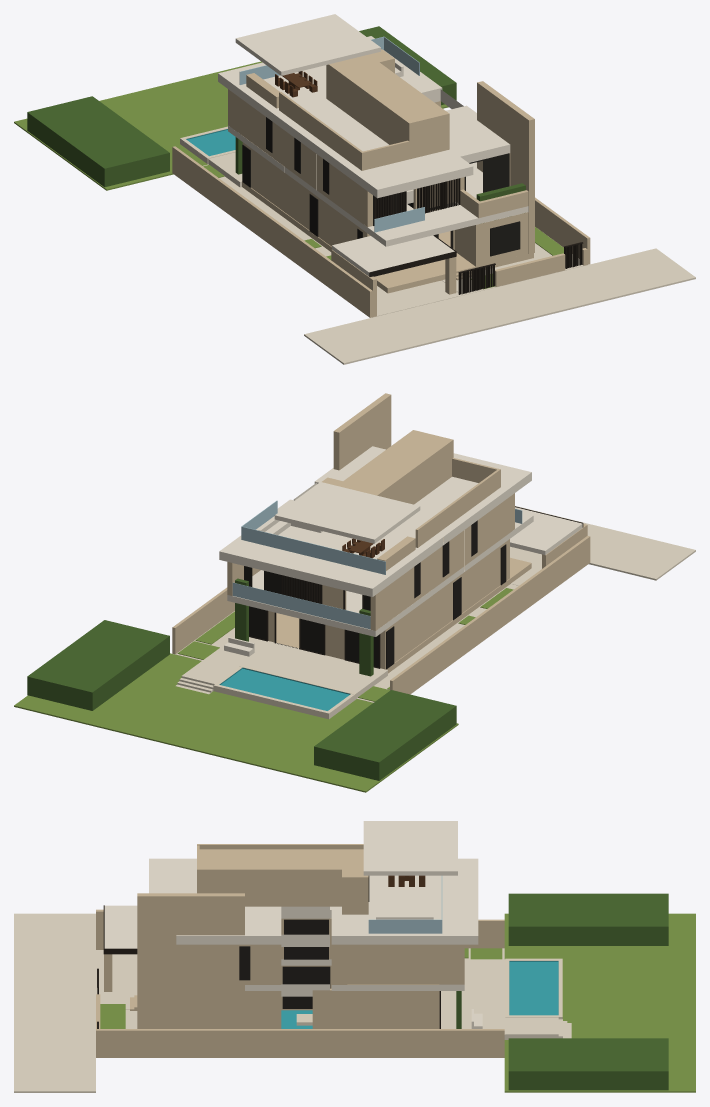
Rendered from villa_v10.glb.
3 views of the same model, one above another, from view 1: azimuth 30°, elevation 25°; view 2: azimuth 150°, elevation 25°; view 3: azimuth 270°, elevation 25° (orthographic). The views are drawn at different scales.
Visible parts, largest first — view 1: GROUND_street_verge, HEDGE_context_rear_left, RF_core, CONTEXT_lawn_beyond_plot (NOT PLOT), WALL_side_left, RF_canopy, ROOF_f, STONE_FIN (render-sourced, not on plan), ROOF_r, CARPORT_canopy (render-sourced, not on plan), GF_plinth, SLAB_FF_front_ext (+26 smaller); view 2: CONTEXT_lawn_beyond_plot (NOT PLOT), HEDGE_context_rear_right, HEDGE_context_rear_left, ROOF_r, WALL_side_left, RF_canopy, RF_core, DECK_rear_strip, GROUND_street_verge, STONE_FIN (render-sourced, not on plan), ROOF_f, POOL_water (v3 9.50 x 3.60) (+26 smaller); view 3: CONTEXT_lawn_beyond_plot (NOT PLOT), GROUND_street_verge, WALL_side_right, STONE_FIN (render-sourced, not on plan), HEDGE_context_rear_left, HEDGE_context_rear_right, RF_core, ROOF_r, RF_canopy, FF_rear, FF_front, GF_rear (+22 smaller).
Part boxes in pixels (box(x1,y1,x2,y2)): GROUND_street_verge: box(304, 248, 695, 364); HEDGE_context_rear_left: box(27, 96, 169, 187); RF_core: box(326, 54, 449, 159); CONTEXT_lawn_beyond_plot (NOT PLOT): box(14, 61, 448, 190); WALL_side_left: box(172, 146, 372, 317); RF_canopy: box(235, 14, 380, 75); ROOF_f: box(313, 129, 473, 198); STONE_FIN (render-sourced, not on plan): box(477, 81, 534, 254); ROOF_r: box(218, 36, 442, 133); CARPORT_canopy (render-sourced, not on plan): box(332, 235, 454, 276); GF_plinth: box(242, 182, 533, 293); SLAB_FF_front_ext: box(368, 205, 528, 246); CONTEXT_lawn_beyond_plot (NOT PLOT): box(14, 653, 458, 792); HEDGE_context_rear_right: box(27, 620, 169, 710); HEDGE_context_rear_left: box(314, 690, 456, 780); ROOF_r: box(219, 499, 443, 596); WALL_side_left: box(390, 535, 590, 694); RF_canopy: box(274, 482, 420, 543); RF_core: box(337, 430, 453, 504); DECK_rear_strip: box(208, 637, 387, 697); GROUND_street_verge: box(515, 506, 695, 580); STONE_FIN (render-sourced, not on plan): box(333, 393, 391, 470); ROOF_f: box(414, 453, 531, 526); POOL_water (v3 9.50 x 3.60): box(221, 668, 349, 710); CONTEXT_lawn_beyond_plot (NOT PLOT): box(504, 913, 695, 1092); GROUND_street_verge: box(14, 913, 95, 1092); WALL_side_right: box(96, 1029, 504, 1057); STONE_FIN (render-sourced, not on plan): box(137, 893, 244, 1028); HEDGE_context_rear_left: box(508, 893, 668, 945); HEDGE_context_rear_right: box(508, 1038, 668, 1090); RF_core: box(197, 849, 363, 906); ROOF_r: box(331, 858, 478, 944); RF_canopy: box(363, 821, 457, 875); FF_rear: box(331, 944, 439, 984); FF_front: box(184, 944, 281, 984); GF_rear: box(347, 991, 439, 1028).
Size of what is drawn, in the model's own units: 30.73 by 13.05 by 49.89.
